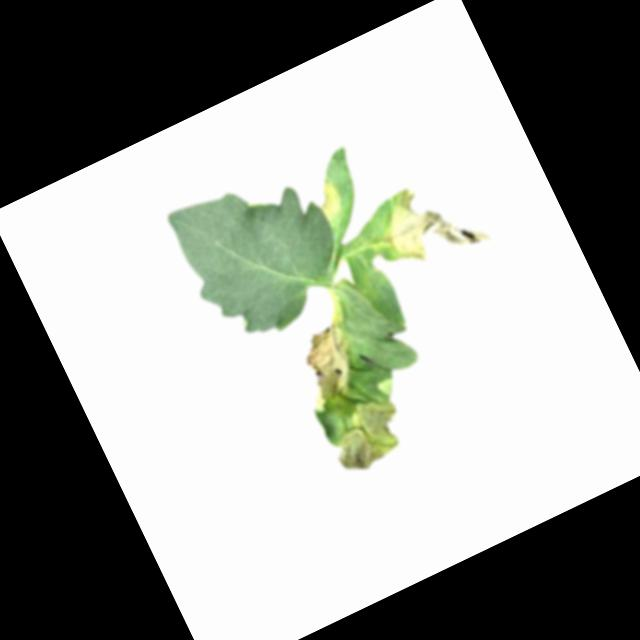Late_blight: (364, 162, 495, 286), (314, 377, 423, 480), (281, 319, 376, 419), (308, 173, 347, 220)
healthy: (160, 152, 361, 357)
